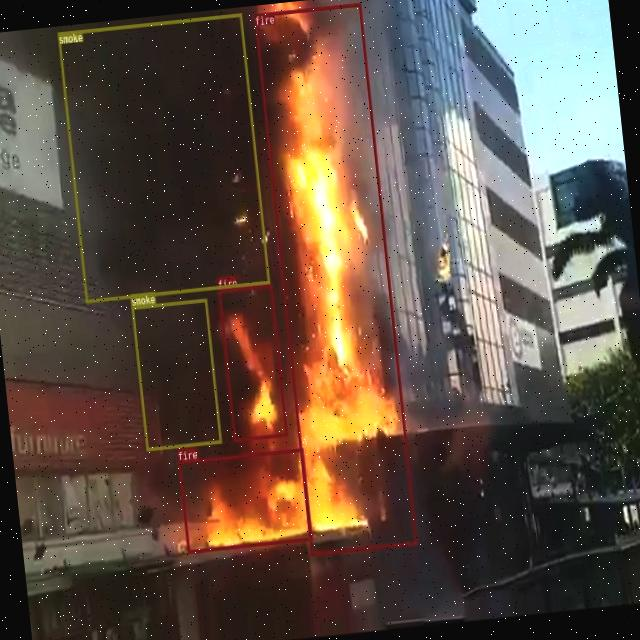fire: (253, 2, 417, 554), (178, 447, 312, 553), (217, 283, 287, 442)
smoke: (57, 12, 269, 302), (130, 298, 222, 450)
